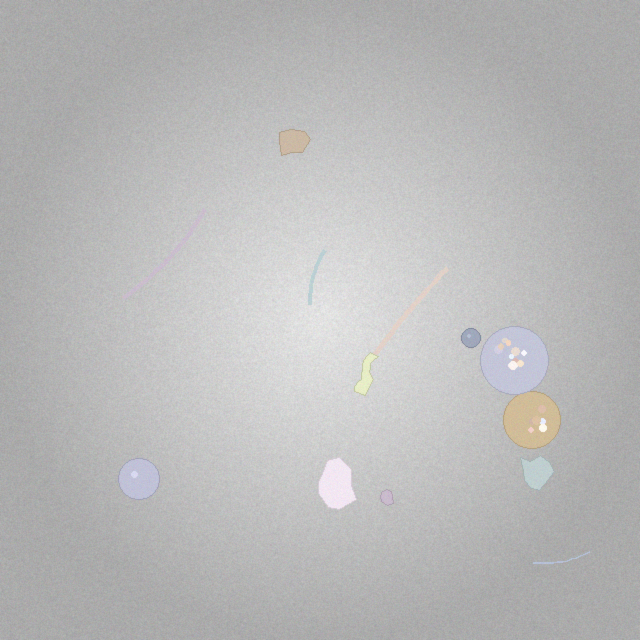fiber: (119, 205, 209, 303), (369, 263, 452, 362), (305, 246, 329, 309), (531, 550, 593, 567)
film: (354, 353, 379, 396)
foam: (481, 327, 549, 395), (503, 392, 560, 449)
fragment: (318, 458, 356, 509), (520, 455, 554, 490), (279, 130, 311, 156), (380, 490, 393, 505)
pellet: (118, 458, 159, 499), (461, 329, 480, 347)
